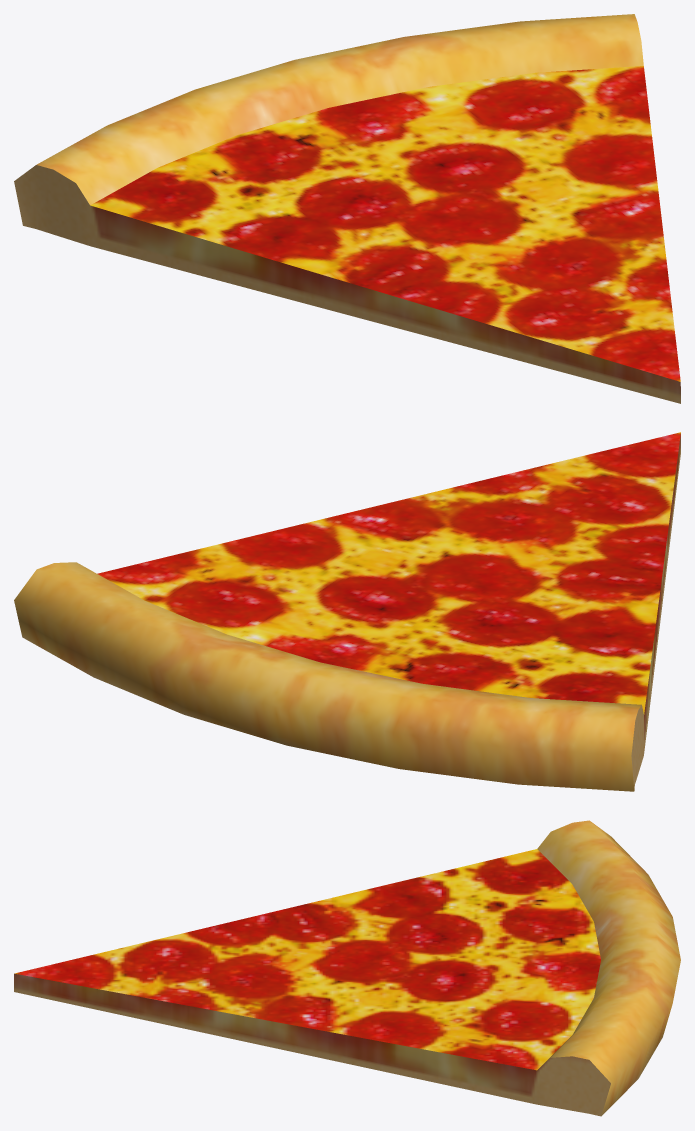
The model's file is roblox_pizza.glb.
3 renders of one model, top to bottom at view 1: azimuth 30°, elevation 25°; view 2: azimuth 150°, elevation 25°; view 3: azimuth 270°, elevation 25°, orthographic. The views are drawn at different scales.
Visible parts, largest first — view 1: Object_2; view 2: Object_2; view 3: Object_2.
Boxes of the visible parts, x1=… form: Object_2: x1=14, y1=14, x2=680, y2=403; Object_2: x1=14, y1=432, x2=680, y2=791; Object_2: x1=14, y1=820, x2=680, y2=1116.
Size of the model in its own units: 1.14 by 0.1239 by 1.28.
Materials: 1 (1 with a texture image).
